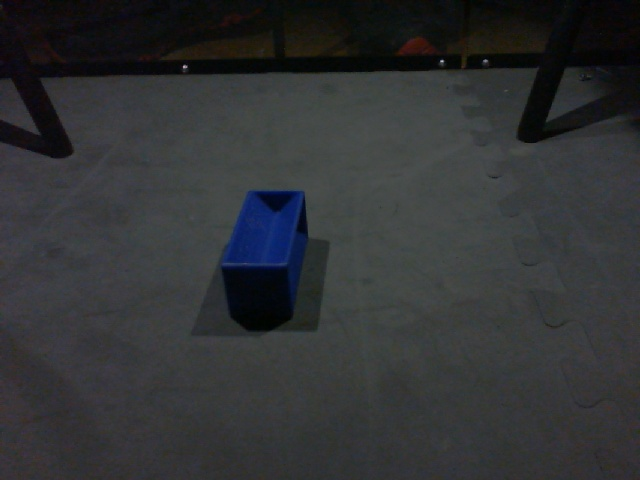BlueSample: (217, 185, 306, 323)
